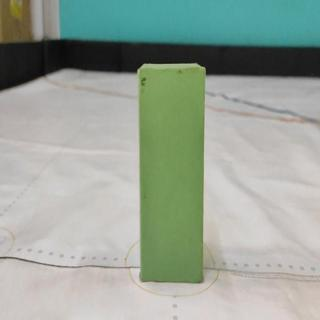greenbox: (139, 62, 205, 286)
